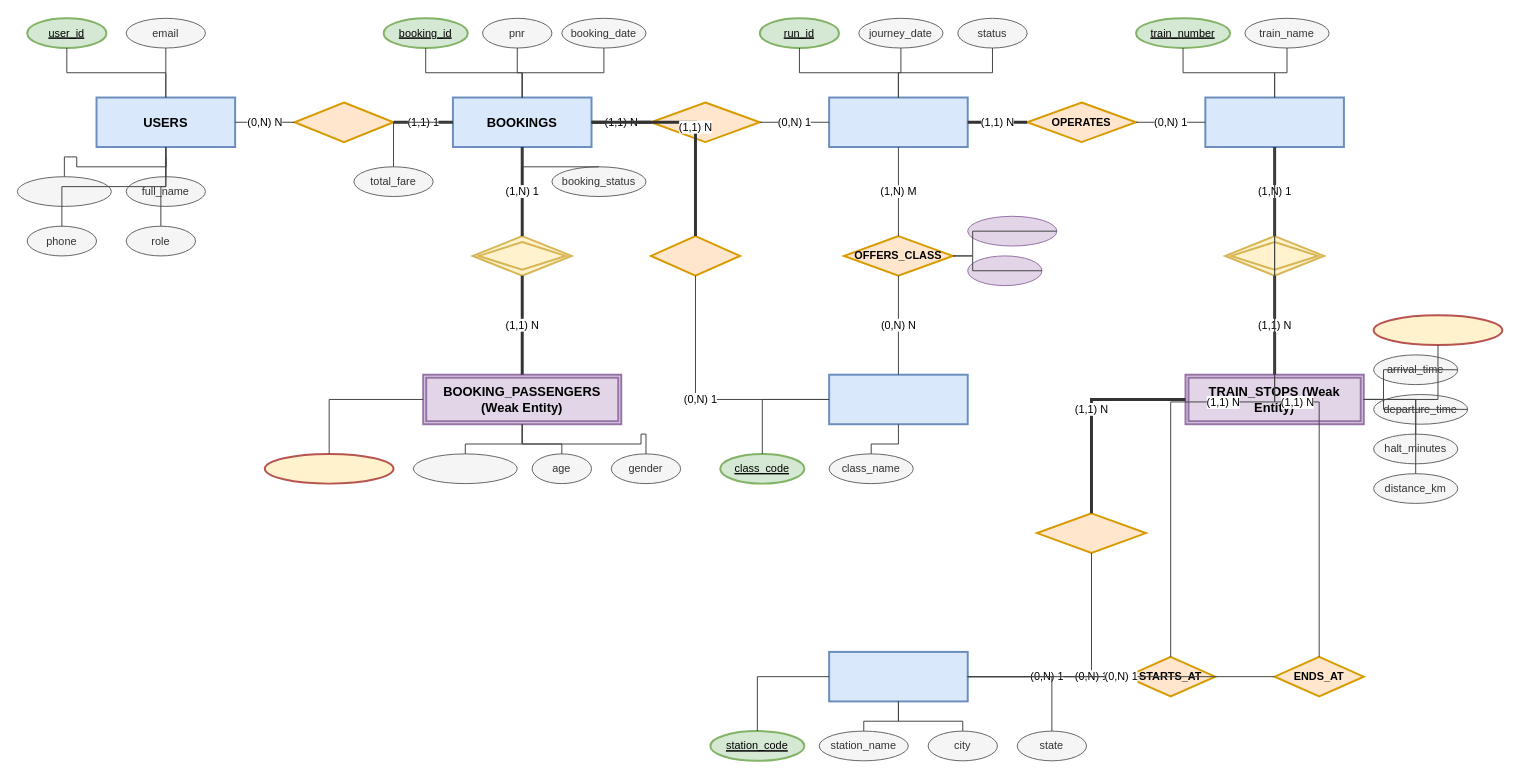
The diagram is 1521 pixels wide and 778 high, and some of its shapes have lost their labels. The shapes that lost their labels are listed below. From the top down, each one's centre as x and y in pixels, then its label:
At (x=343, y=122): "BOOKS".
At (x=704, y=122): "BOOKED_FOR".
At (x=898, y=122): "TRAIN_RUNS".
At (x=1274, y=122): "TRAINS".
At (x=63, y=191): "password_hash".
At (x=1012, y=230): "total_capacity".
At (x=521, y=255): "CONTAINS".
At (x=695, y=255): "IN_CLASS".
At (x=1004, y=270): "base_fare".
At (x=1274, y=255): "HAS_STOPS".
At (x=1437, y=330): "- - stop_sequence - -".
At (x=898, y=399): "TRAVEL_CLASSES".
At (x=328, y=468): "- - passenger_seq - -".
At (x=464, y=468): "passenger_name".
At (x=1091, y=532): "LOCATED_AT".
At (x=898, y=676): "STATIONS".
